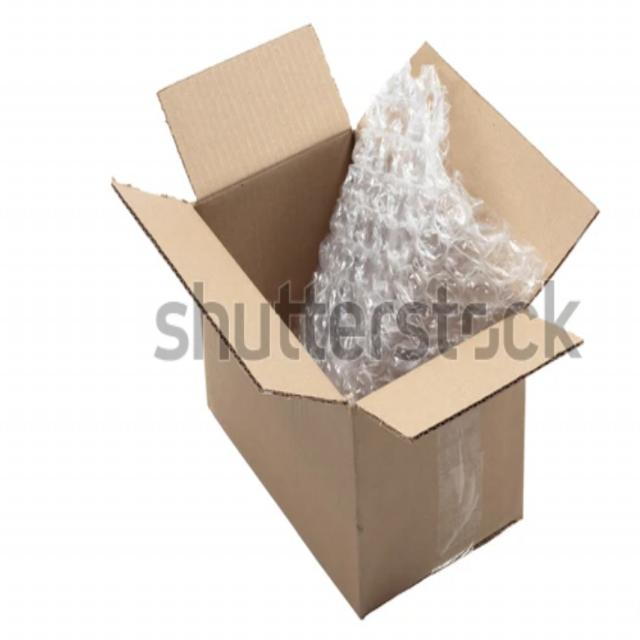dry: (364, 162, 586, 576), (0, 191, 165, 536), (2, 560, 640, 640)
